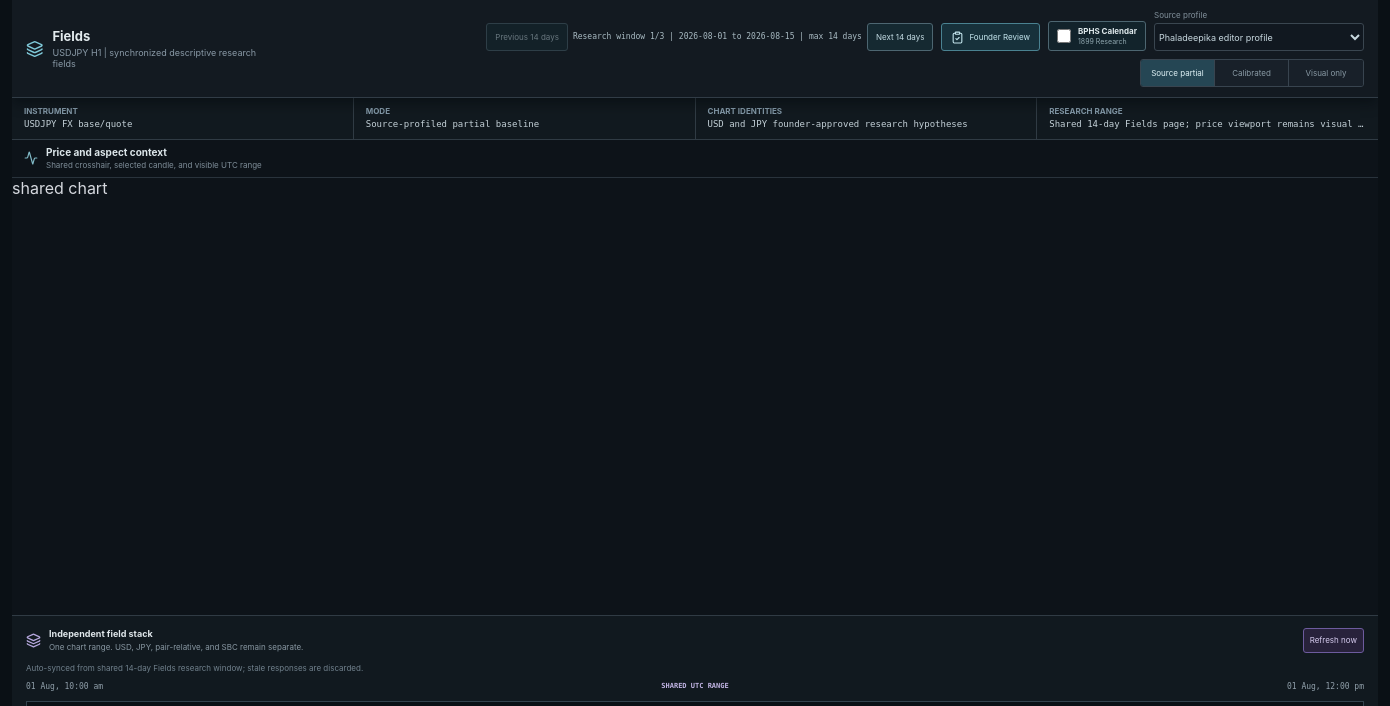
Test: FieldsWorkspace › uses fixed 14-day research pages instead of the broad chart or viewport range
This screenshot has width=1390, height=706.
Expected: the text "Research window 1/3 | 2026-08-01 to 2026-08-15 | max 14 days" is shown, [573, 32, 862, 42]
Click the button "Next 14 days".
click(900, 37)  # box [867, 23, 934, 51]
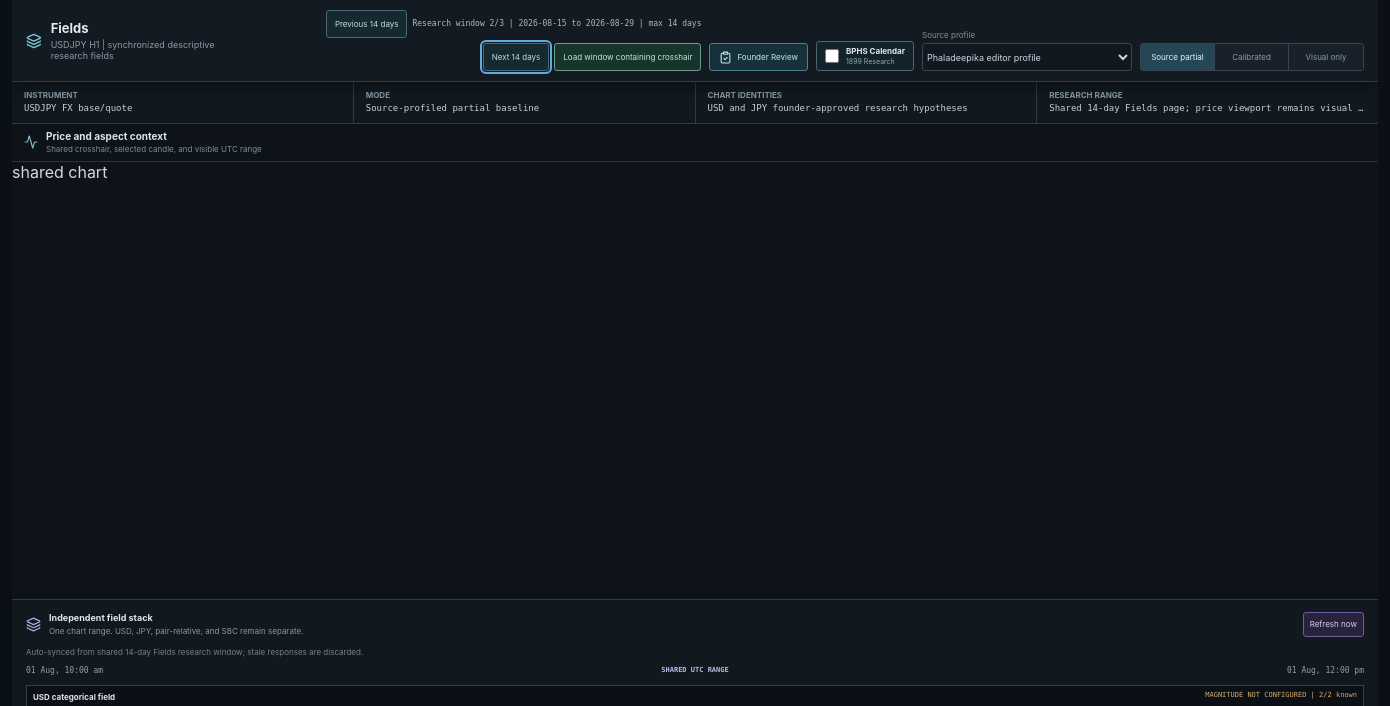
Click the button "Next 14 days".
click(516, 57)  # box [483, 43, 549, 71]
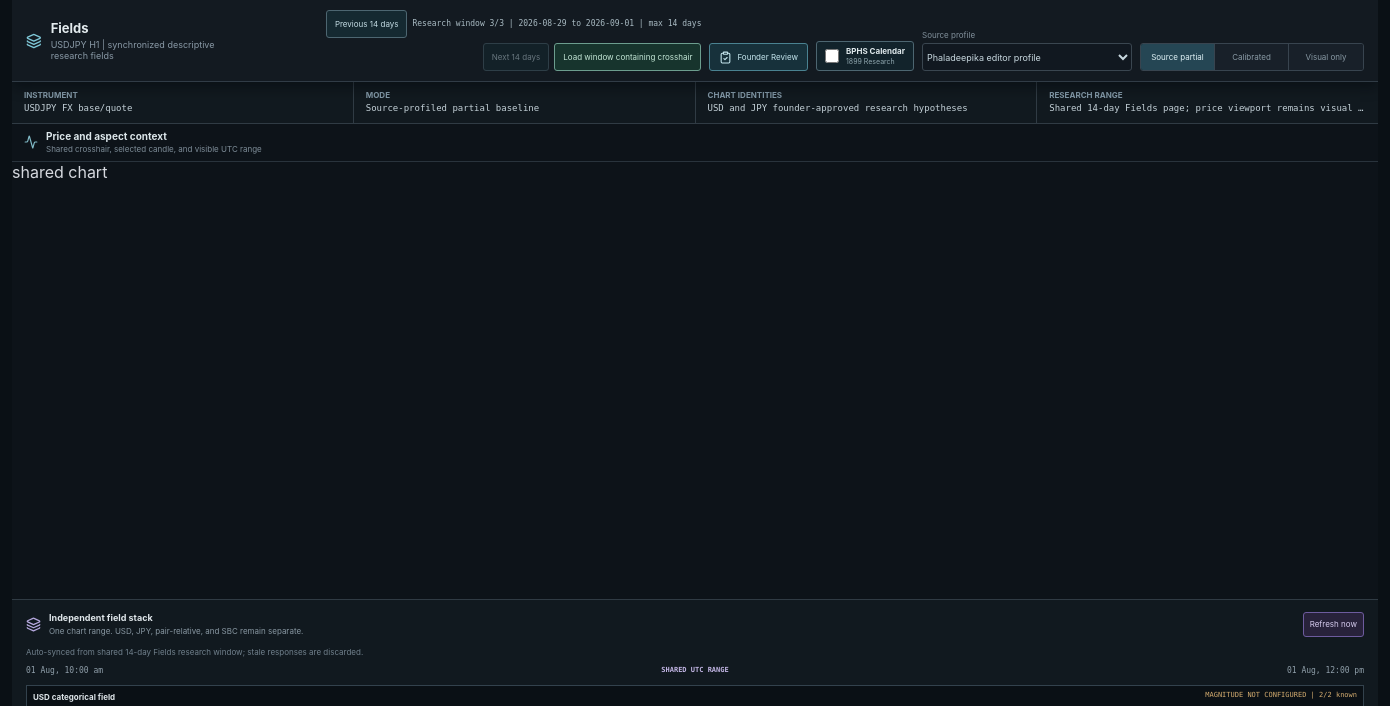
Result: the button "Previous 14 days" is enabled at [326, 10, 408, 38]
Result: the text "Research window 3/3 | 2026-08-29 to 2026-09-01 | max 14 days" is shown at [412, 19, 702, 29]
Result: the button "Next 14 days" is disabled at [483, 43, 549, 71]
